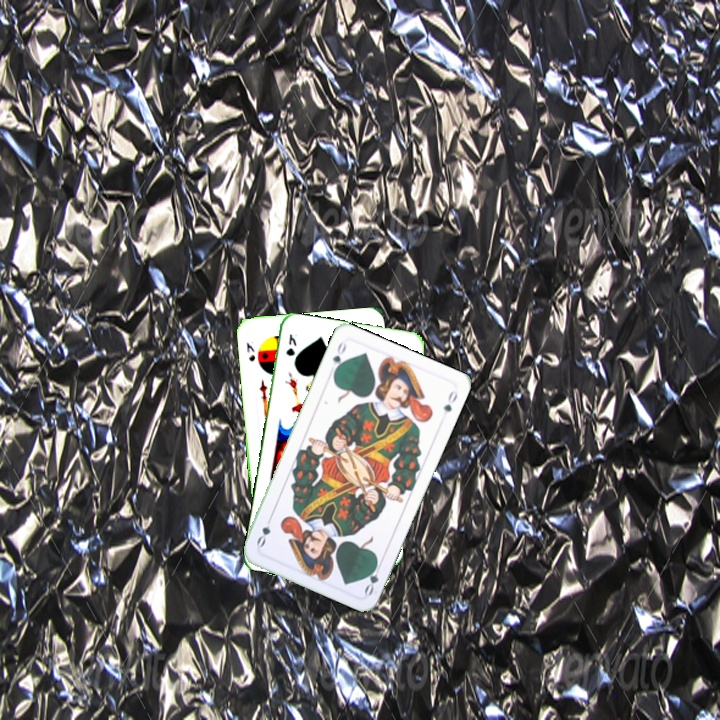GK: (282, 330, 299, 359)
GO: (360, 557, 384, 598), (329, 338, 349, 377)
SK: (242, 337, 258, 364)
